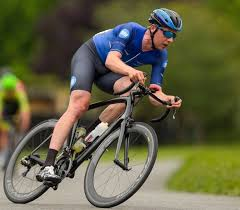bicycle: (1, 83, 166, 209)
